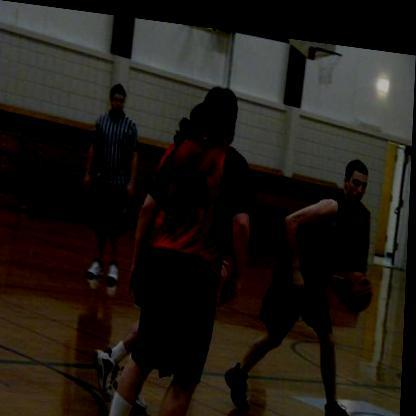basketball: (341, 257, 376, 305)
